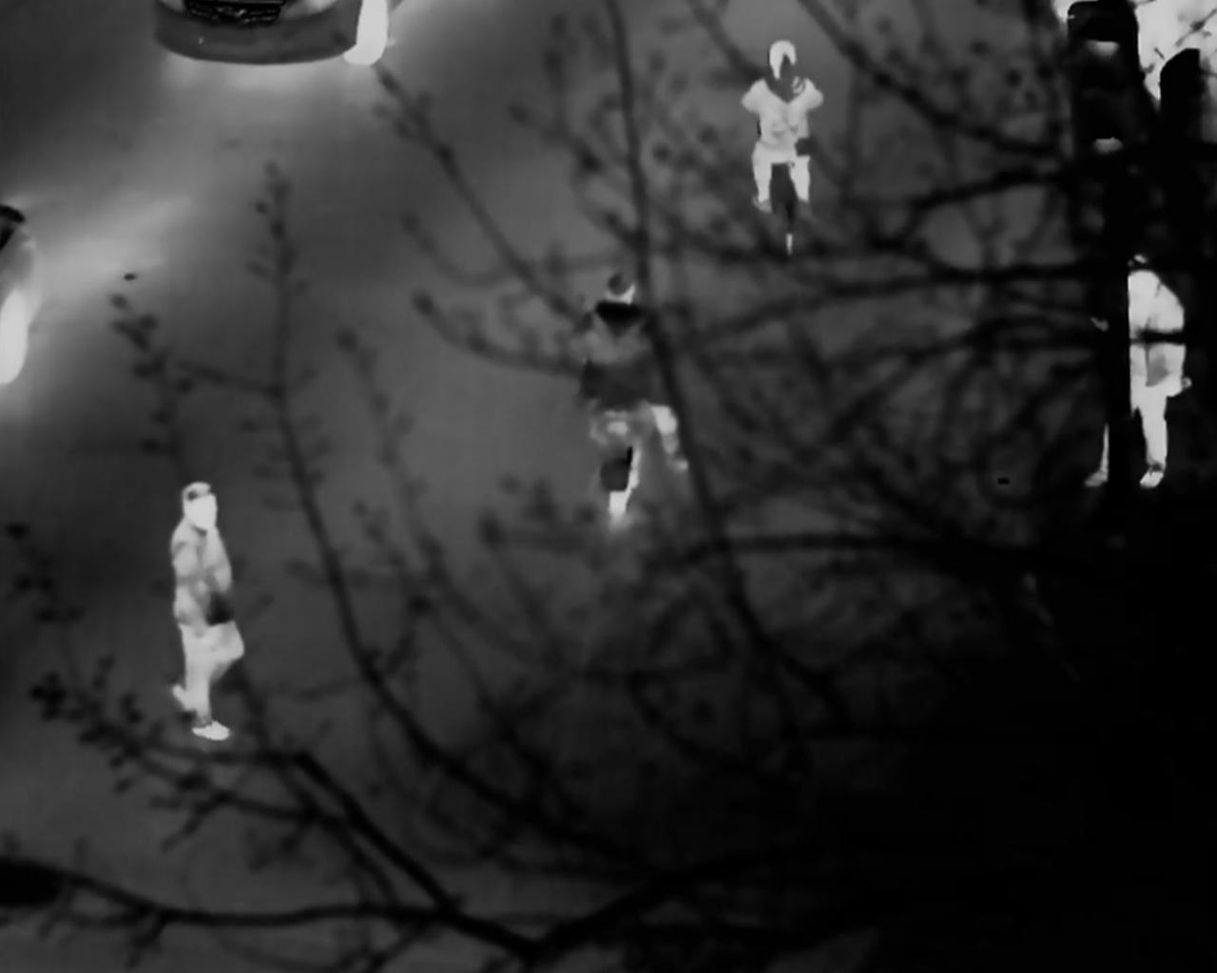person: (564, 261, 686, 514), (173, 481, 259, 723), (1107, 258, 1197, 487), (737, 27, 824, 258)
